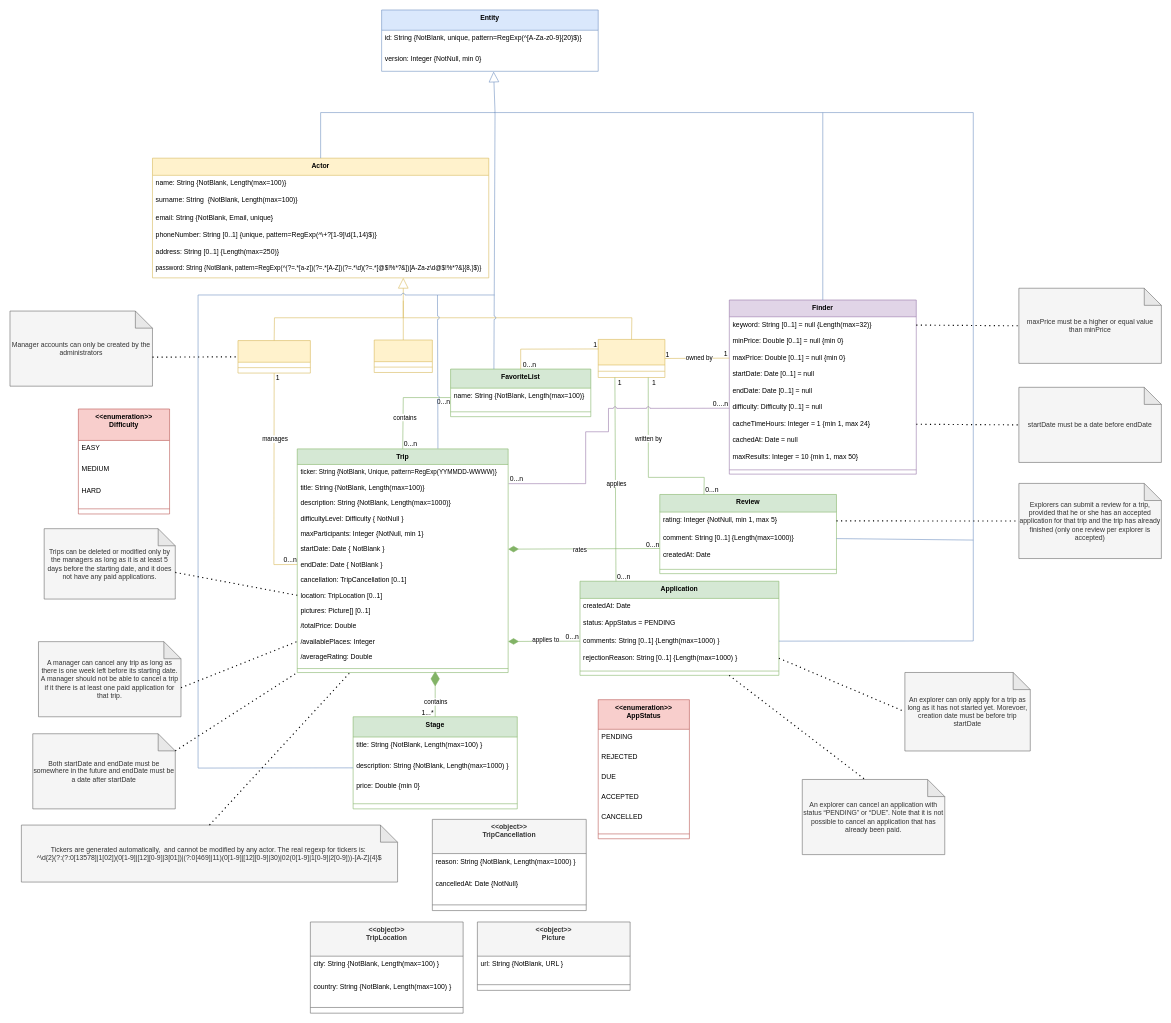
This 1171x1023 diagram has some shape labels left out. Each missing label, with the centre of its shape:
"Administrator" belongs at (403,355).
"Explorer" belongs at (631,358).
"Manager" belongs at (273,356).
